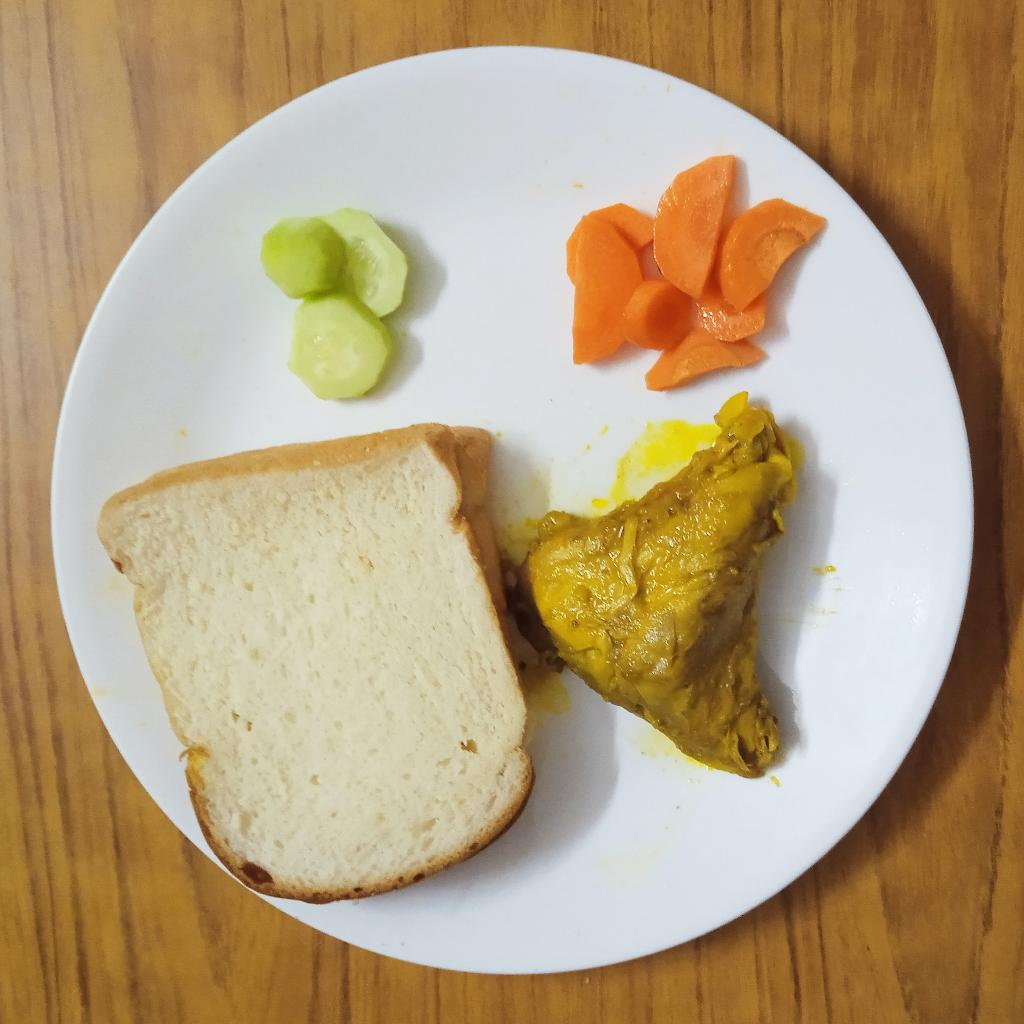bread: (94, 421, 538, 908)
carrot: (563, 154, 829, 389)
chicken: (516, 407, 799, 782)
cucumber: (263, 205, 415, 402)
